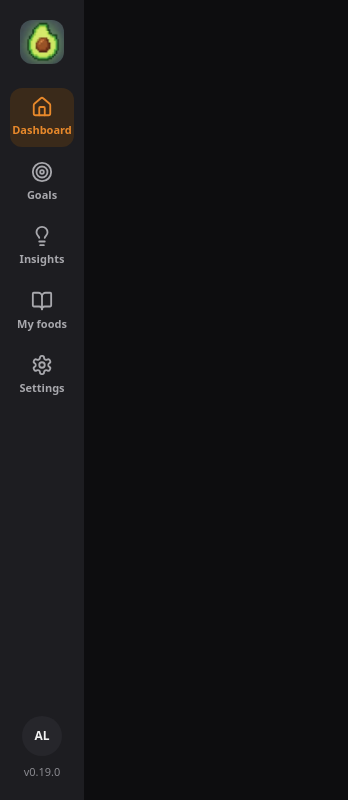
Test case: the rail's bottom (W2) › a click outside closes it
Click the button with aria-label "Account menu" at coordinates (42, 736), box top-left (22, 716), bottom-right (62, 756)
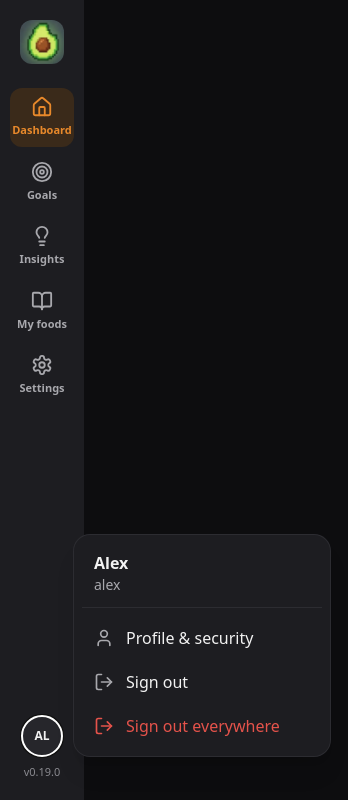
Click the link "Goals" at coordinates (42, 181), box top-left (27, 160), bottom-right (57, 202)
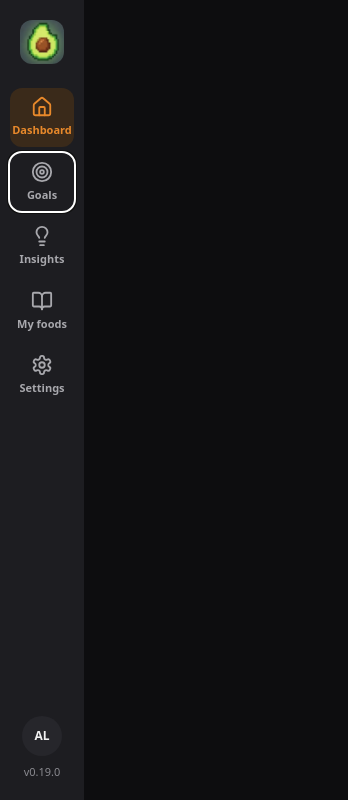
Expected: the element "Account" is gone
